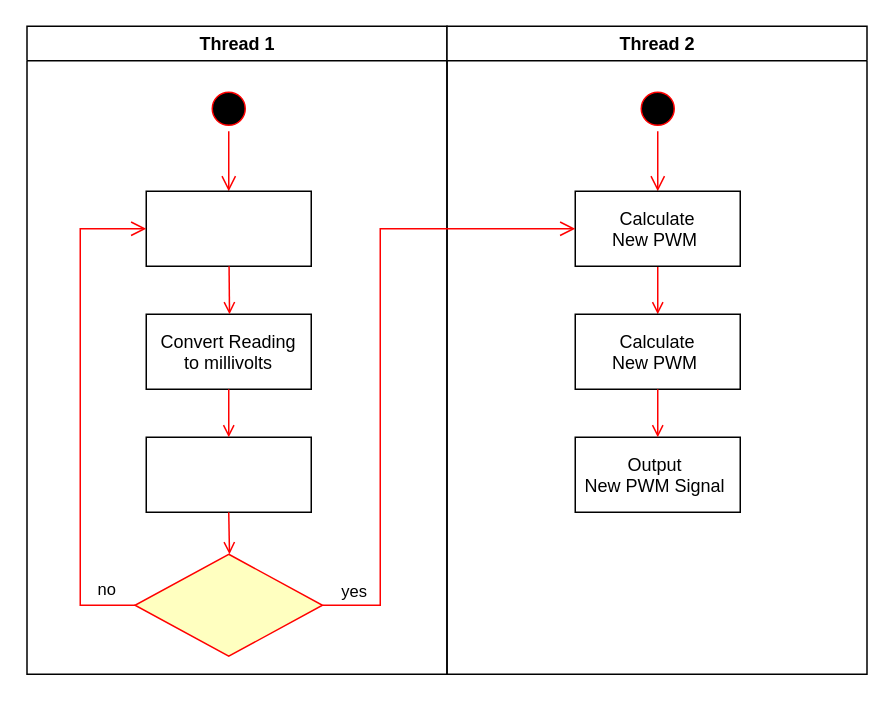
Image size: 893x701. Some labels were removed from this diagram. The shapes that lost their labels are listed below. From the top down, each one's centre as x and y in pixels, then its label:
At (228,228): "Read Raw Input Voltage".
At (228,474): "Calculate Controller Error Voltage".
At (228,604): "PWM needs adjustment".
